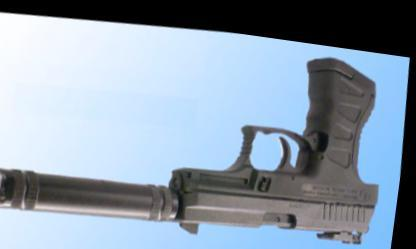pistol: (0, 7, 402, 247)
